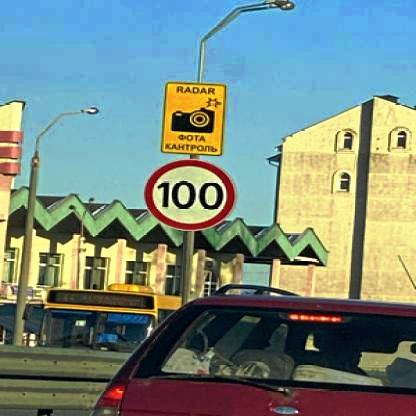Speed Limit -100-: (138, 154, 238, 230)
